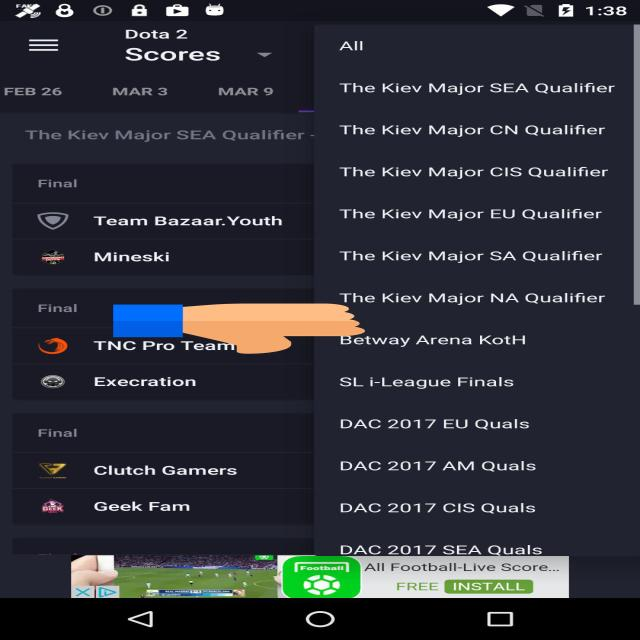obstruction: (113, 302, 365, 355)
